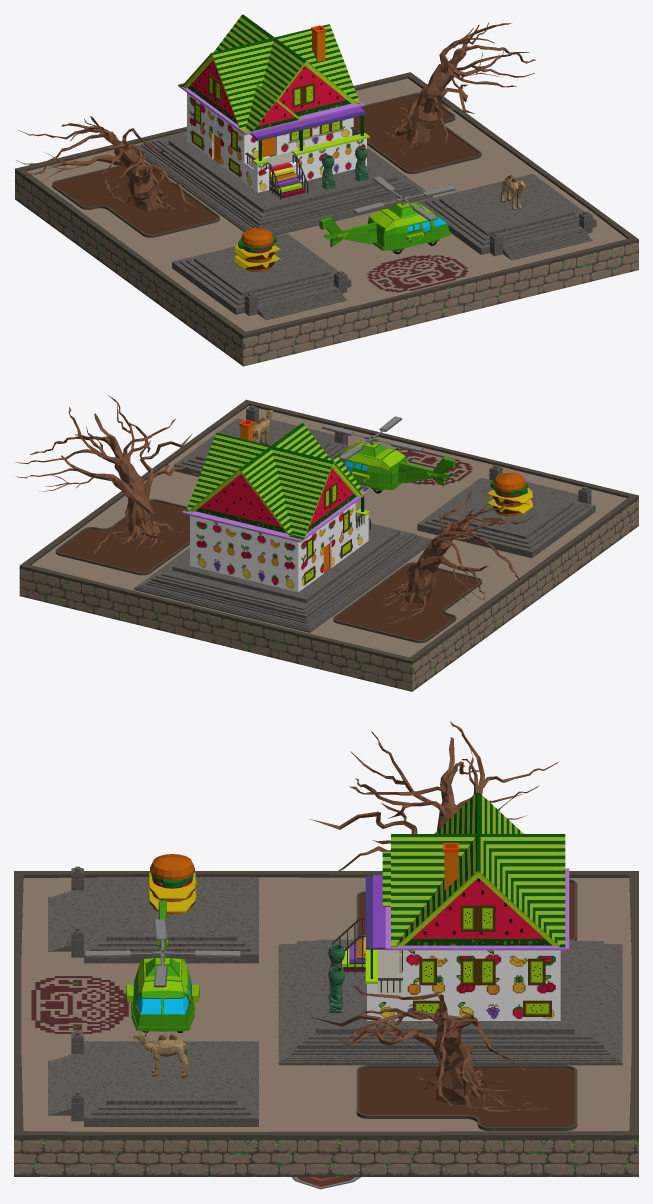
The picture shows the model from 3 angles, top to bottom: view 1: azimuth 30°, elevation 25°; view 2: azimuth 150°, elevation 25°; view 3: azimuth 270°, elevation 25°; orthographic projection. The views are drawn at different scales.
Parts seen in each view (by area): view 1: Cube.011, Cube.1063, VEHICLES_HELICOPTER, OBJRANDOM_HAMBURGER, ANIMAL_CAMELLO; view 2: Cube.011, Cube.1063, VEHICLES_HELICOPTER, OBJRANDOM_HAMBURGER, ANIMAL_CAMELLO; view 3: Cube.011, Cube.1063, VEHICLES_HELICOPTER, OBJRANDOM_HAMBURGER, ANIMAL_CAMELLO.
Part boxes in pixels (x1,y1,x2,y2): Cube.011: [15, 22, 638, 366]; Cube.1063: [178, 14, 369, 199]; VEHICLES_HELICOPTER: [319, 176, 455, 254]; OBJRANDOM_HAMBURGER: [234, 228, 280, 272]; ANIMAL_CAMELLO: [500, 175, 525, 209]; Cube.011: [15, 395, 638, 691]; Cube.1063: [182, 419, 370, 592]; VEHICLES_HELICOPTER: [322, 416, 455, 493]; OBJRANDOM_HAMBURGER: [486, 472, 532, 516]; ANIMAL_CAMELLO: [253, 410, 273, 444]; Cube.011: [14, 721, 638, 1176]; Cube.1063: [332, 792, 569, 1020]; VEHICLES_HELICOPTER: [84, 900, 240, 1032]; OBJRANDOM_HAMBURGER: [148, 854, 196, 914]; ANIMAL_CAMELLO: [133, 1031, 187, 1077].
Size of the model in its own units: 5099 by 2376 by 4000.
Materials: 41 (7 with a texture image).
